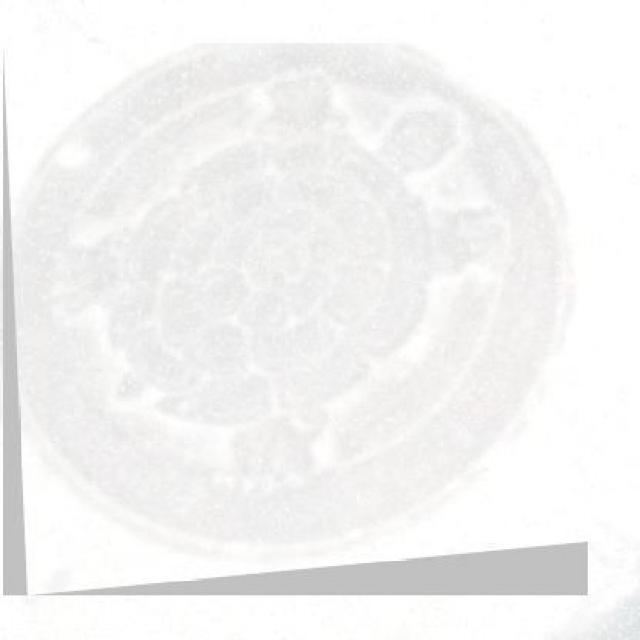Manhole: (3, 42, 588, 596)
